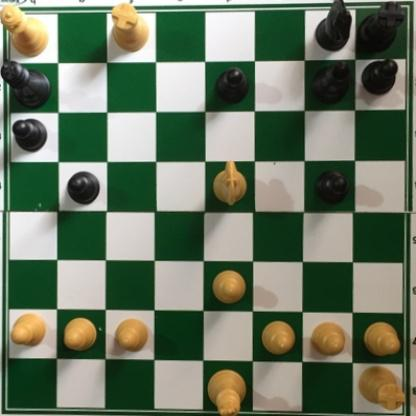black-bishop: (306, 57, 350, 104)
black-king: (1, 56, 53, 112)
black-knight: (314, 1, 354, 54)
black-pawn: (359, 57, 400, 98), (211, 65, 250, 105), (9, 117, 49, 153), (314, 169, 350, 205), (64, 169, 99, 206)
black-rook: (355, 1, 405, 54)
white-king: (205, 368, 247, 416)
white-knight: (212, 159, 247, 208)
white-pawn: (7, 310, 49, 347), (309, 319, 347, 359), (358, 322, 401, 357), (258, 317, 297, 355), (113, 316, 150, 353), (61, 315, 98, 351), (210, 270, 249, 304)
white-queen: (1, 1, 53, 57)
white-rook: (354, 361, 406, 411), (105, 1, 148, 54)
